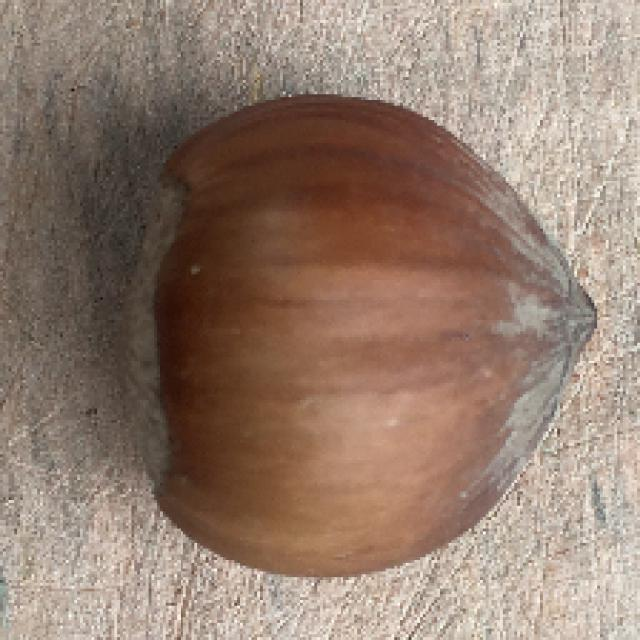DamagedHazelnut: (122, 99, 598, 579)
